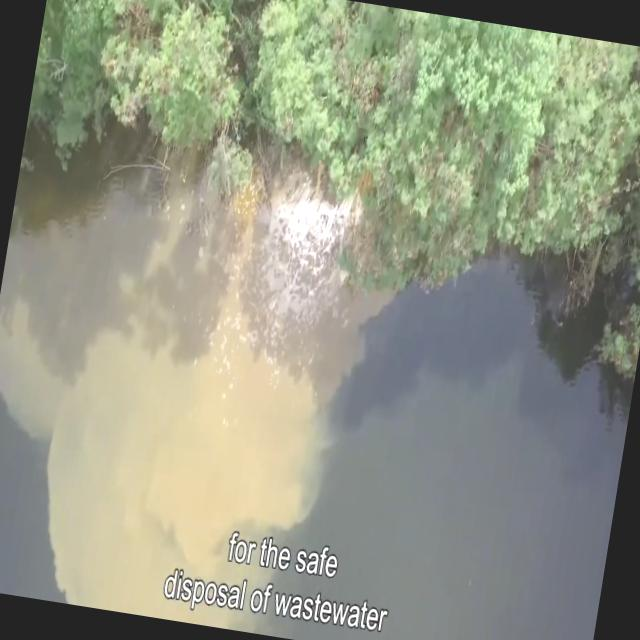yellow_boy: (0, 132, 393, 632)
